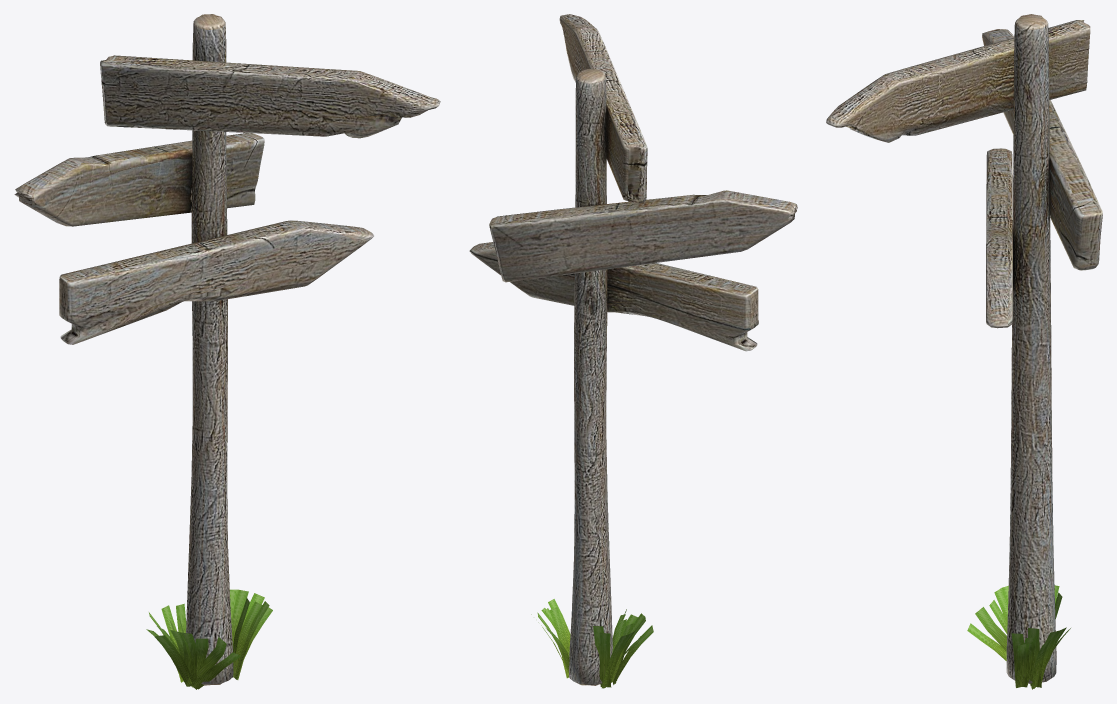
File: camp_signpost.gltf
3 views of the same model, side by side, from view 1: azimuth 30°, elevation 25°; view 2: azimuth 150°, elevation 25°; view 3: azimuth 270°, elevation 25° (orthographic). The views are drawn at different scales.
Visible parts, largest first — view 1: UKAZ3_LOW; view 2: UKAZ3_LOW; view 3: UKAZ3_LOW.
Part boxes in pixels (left/top/right/bottom): UKAZ3_LOW: left=14, top=14, right=440, bottom=689; UKAZ3_LOW: left=469, top=14, right=797, bottom=688; UKAZ3_LOW: left=826, top=14, right=1102, bottom=689.
Bounding box in the file's own units: 554 × 995 × 377.
2 materials, 2 textured.
